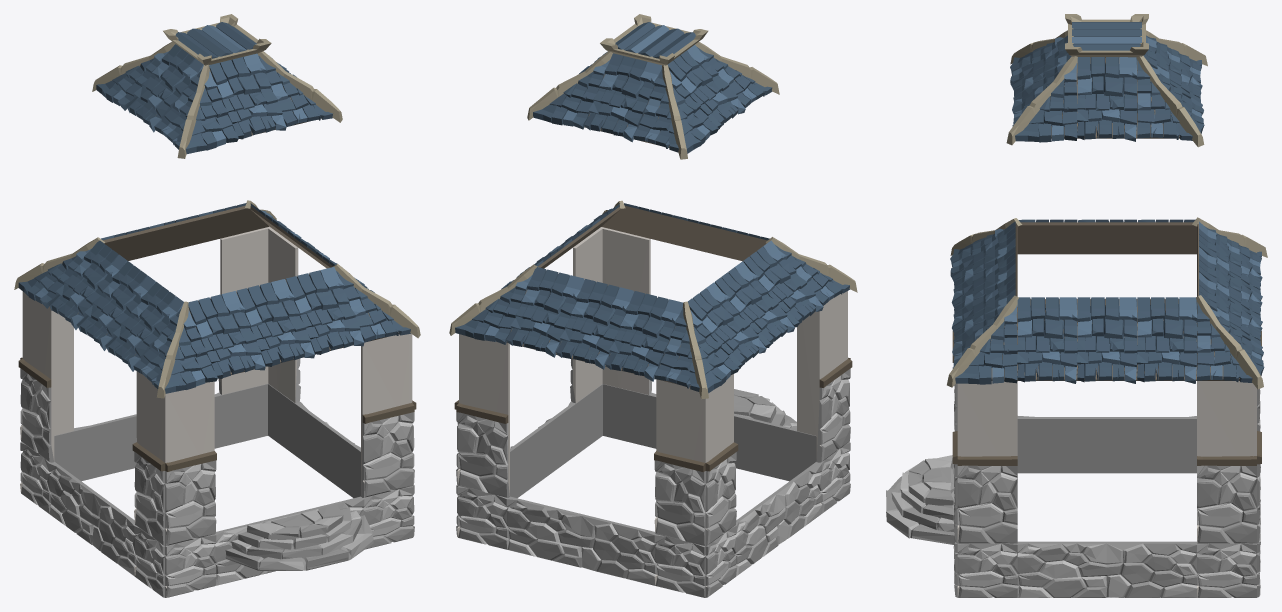
Rendered from HOUSE_13_PARTS.fbx.
3 renders of one model, left to right at view 1: azimuth 30°, elevation 25°; view 2: azimuth 150°, elevation 25°; view 3: azimuth 270°, elevation 25°, orthographic. The views are drawn at different scales.
Parts seen in each view (by area): view 1: WALL_04_20, WALL_04_19, STAIRS_06_2, WALL_04_22, FOUNDATION_01_5, WALL_04_21, ROOF_base_67, ROOF_base_74, ROOF_base_69, ROOF_CORNER_OUT_5, ROOF_CORNER_OUT_10, ROOF_base_78 (+26 smaller); view 2: FOUNDATION_01_4, WALL_04_28, WALL_04_27, WALL_04_21, FOUNDATION_01_5, WALL_04_22, ROOF_base_68, ROOF_base_73, ROOF_base_75, ROOF_CORNER_OUT_6, ROOF_base_76, ROOF_CORNER_OUT_11 (+26 smaller); view 3: FOUNDATION_01_5, FOUNDATION_01_3, WALL_04_25, WALL_04_26, ROOF_base_70, ROOF_base_71, ROOF_base_72, ROOF_base_77, STAIRS_06_2, ROOF_CORNER_OUT_9, ROOF_CORNER_OUT_7, ROOF_CORNER_OUT_12 (+21 smaller).
Part boxes in pixels (x1,y1,x2,y2): WALL_04_20: (361,334,414,497); WALL_04_19: (163,381,216,545); STAIRS_06_2: (225,504,373,570); WALL_04_22: (18,293,54,462); FOUNDATION_01_5: (48,462,137,576); WALL_04_21: (132,371,168,545); ROOF_base_67: (188,291,265,378); ROOF_base_74: (236,279,314,366); ROOF_base_69: (285,267,364,354); ROOF_CORNER_OUT_5: (133,301,217,398); ROOF_CORNER_OUT_10: (154,64,238,158); ROOF_base_78: (209,53,286,139); FOUNDATION_01_4: (506,496,656,585); WALL_04_28: (654,379,707,546); WALL_04_27: (456,335,509,497); WALL_04_21: (816,292,852,462); FOUNDATION_01_5: (734,462,822,576); WALL_04_22: (702,374,738,545); ROOF_base_68: (605,291,683,381); ROOF_base_73: (506,267,584,357); ROOF_base_75: (556,279,633,369); ROOF_CORNER_OUT_6: (654,301,739,399); ROOF_base_76: (584,53,661,142); ROOF_CORNER_OUT_11: (633,65,718,159); FOUNDATION_01_5: (1017,416,1196,473); FOUNDATION_01_3: (1017,541,1196,597); WALL_04_25: (1197,381,1256,543); WALL_04_26: (957,381,1017,543); ROOF_base_70: (1017,297,1077,383); ROOF_base_71: (1076,297,1137,383); ROOF_base_72: (1136,297,1197,383); ROOF_base_77: (1077,57,1137,141); STAIRS_06_2: (886,455,954,544); ROOF_CORNER_OUT_9: (1006,56,1077,145); ROOF_CORNER_OUT_7: (947,295,1018,387); ROOF_CORNER_OUT_12: (1136,56,1204,147).
Bounding box in the file's own units: 537 × 927 × 638.
